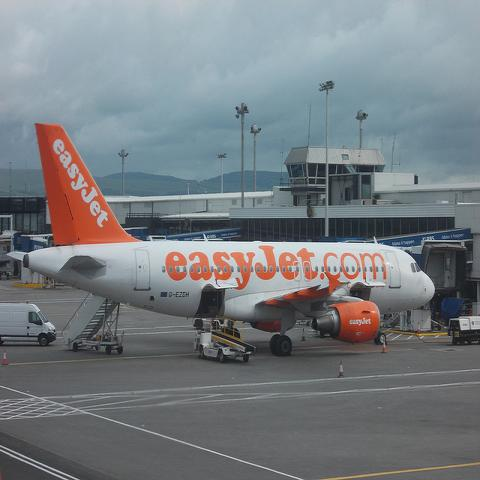truck: (193, 316, 257, 363), (1, 300, 57, 348), (447, 316, 480, 346)
